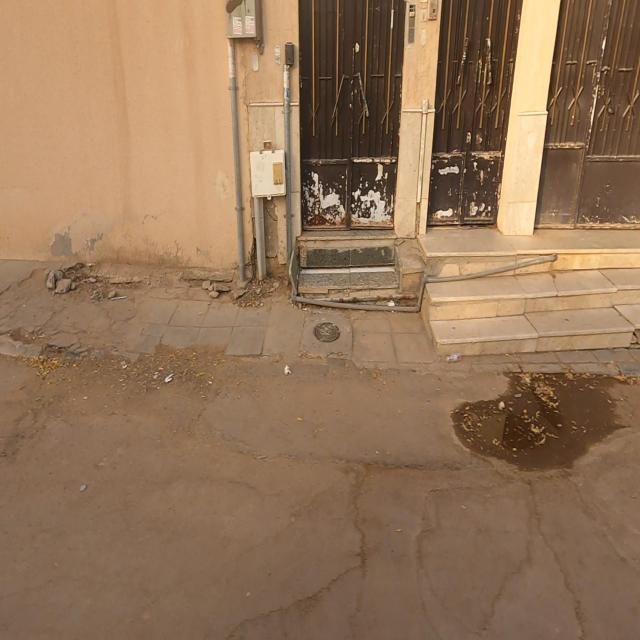debris: (1, 183, 160, 384)
